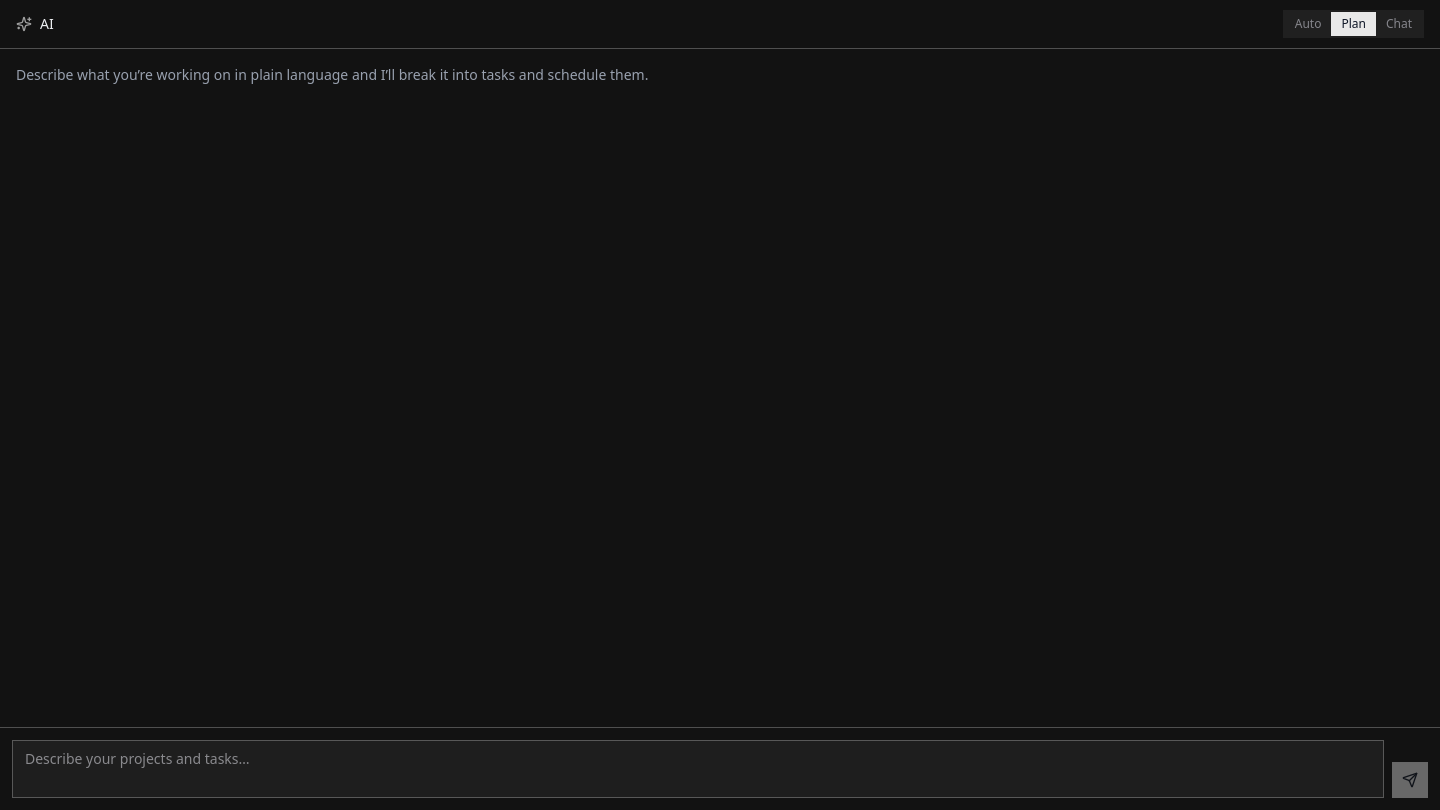
ChatPane › plans a message and summarizes the result
Type "schedule a call" into the text box with placeholder "Describe your projects and tasks…" at (698, 769), box [12,740,1384,798]
Then press Enter
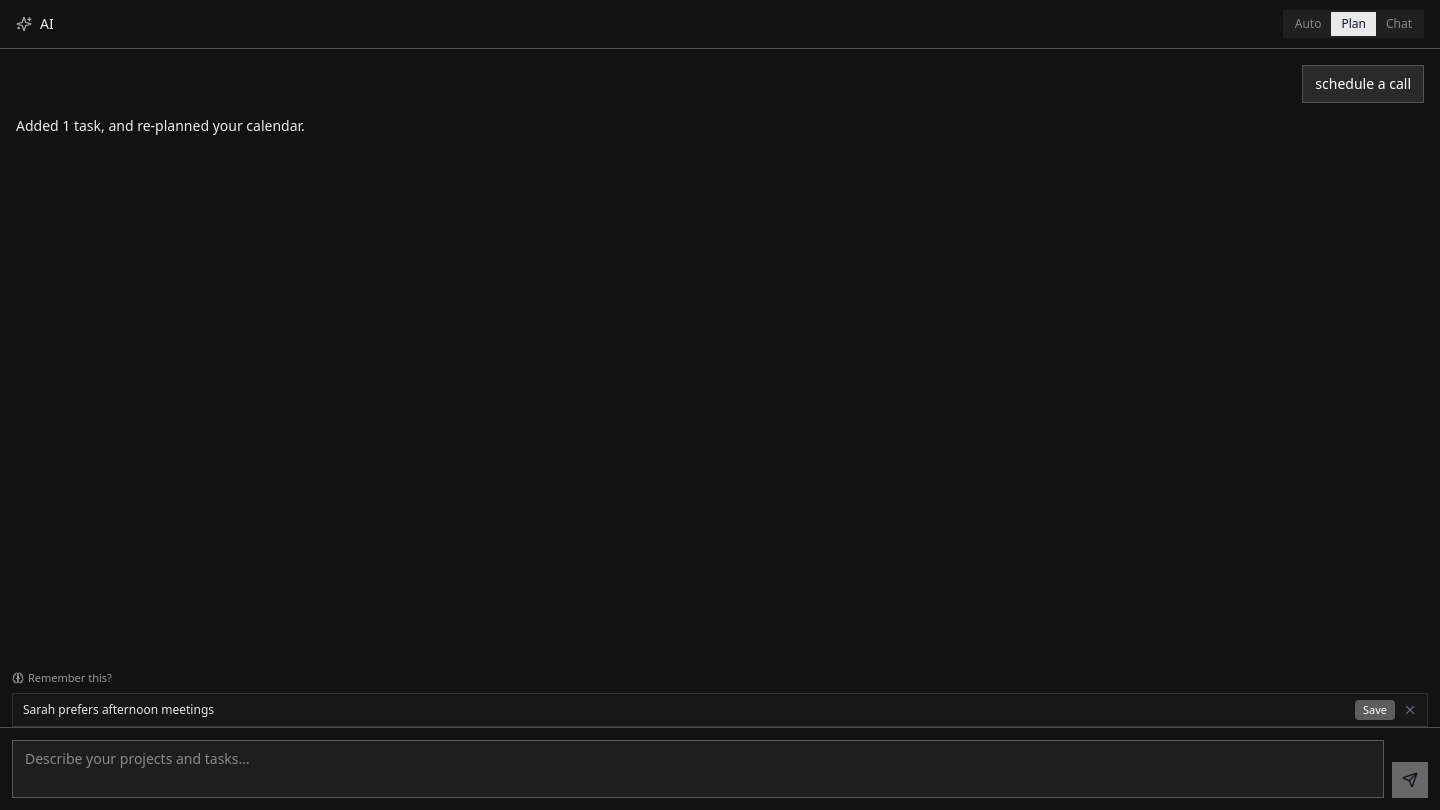
expect the text "Added 1 task, and re-planned your calendar." is shown: met, box [16,115,305,138]
